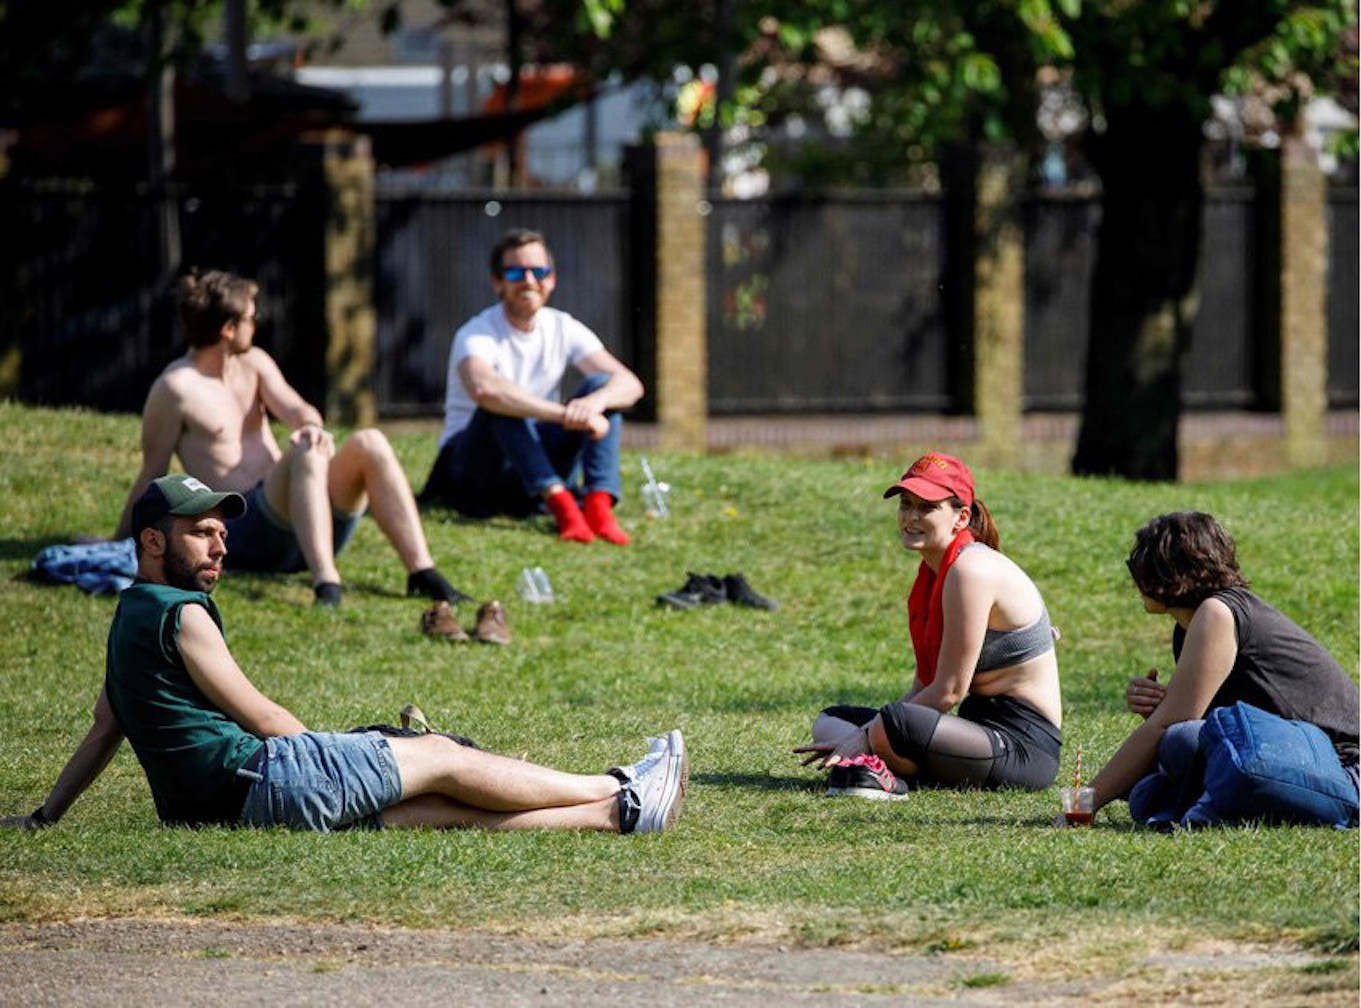Person: (1, 478, 687, 834), (793, 450, 1063, 791), (1095, 510, 1360, 830), (428, 228, 644, 545), (141, 269, 404, 475)
